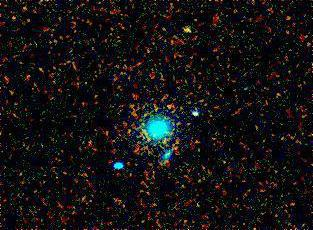star: (173, 15, 203, 45)
